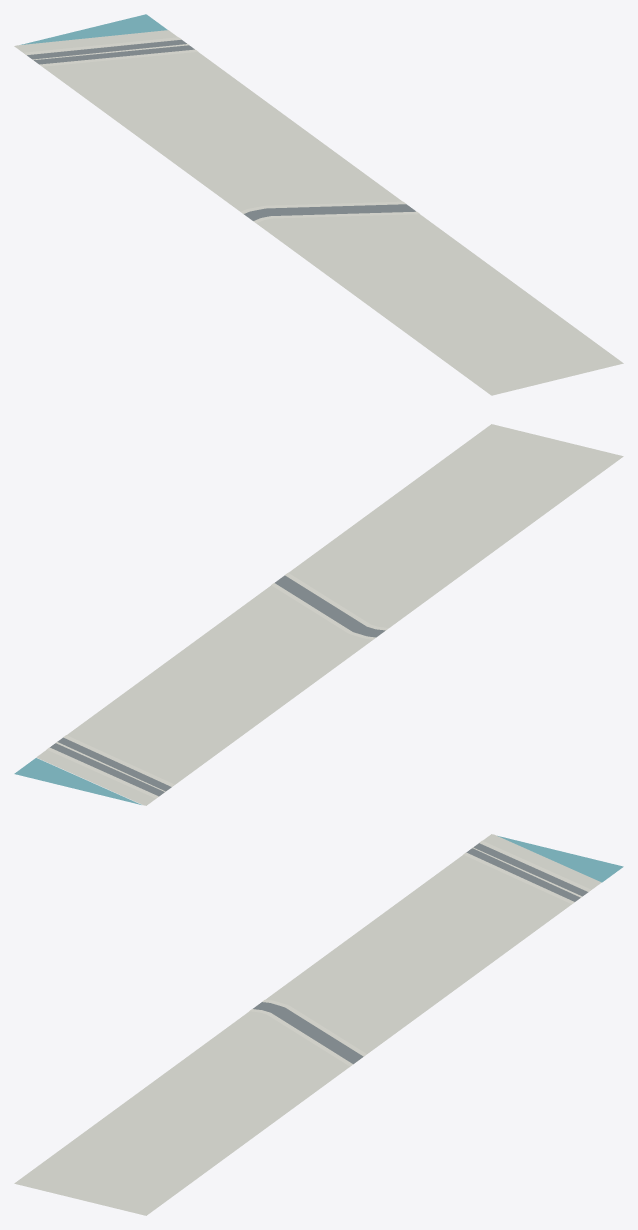
3 renders of one model, top to bottom at view 1: azimuth 30°, elevation 25°; view 2: azimuth 150°, elevation 25°; view 3: azimuth 330°, elevation 25°, orthographic.
Parts seen in each view (by area): view 1: city; view 2: city; view 3: city.
Part boxes in pixels (bbox=[...]): city: bbox=[14, 14, 623, 395]; city: bbox=[14, 424, 623, 805]; city: bbox=[14, 834, 623, 1215].
Bounding box in the file's own units: 80 × 0.4 × 500.
